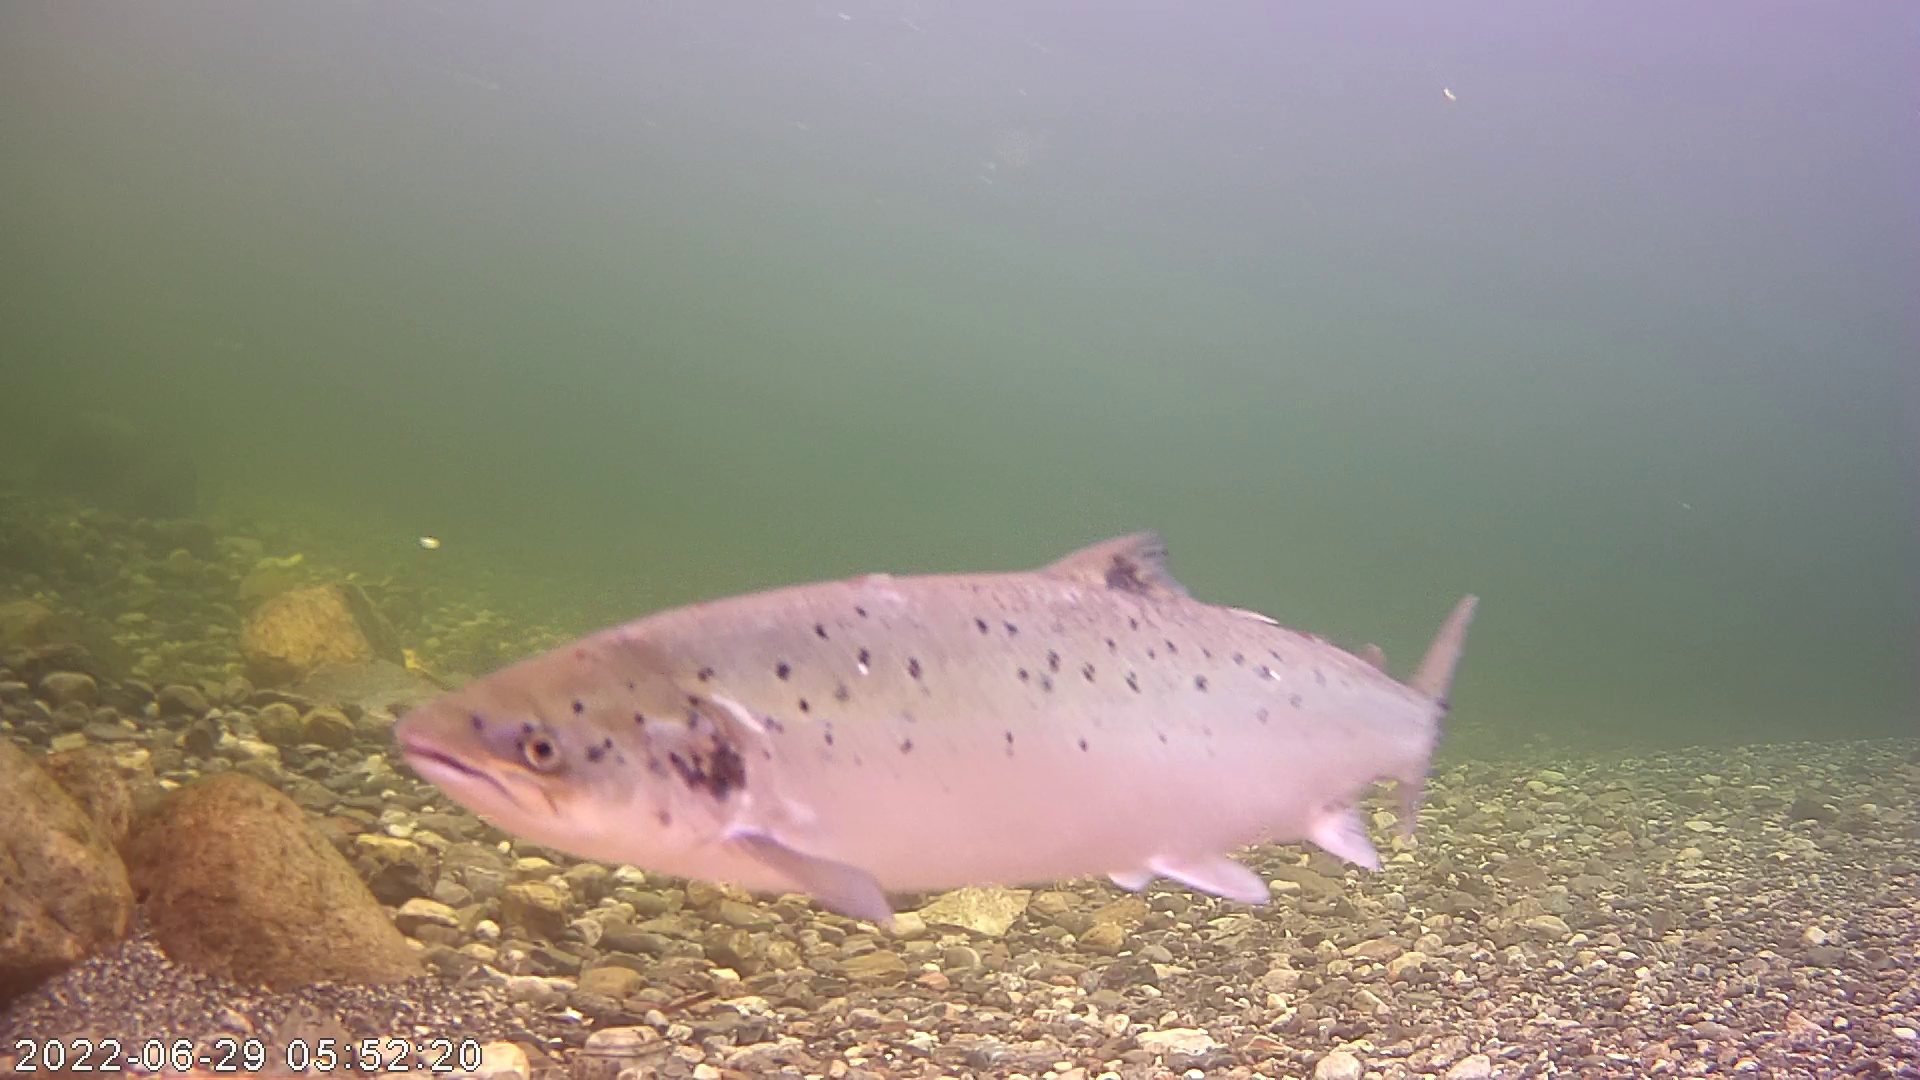salmon: (458, 417, 1462, 920)
